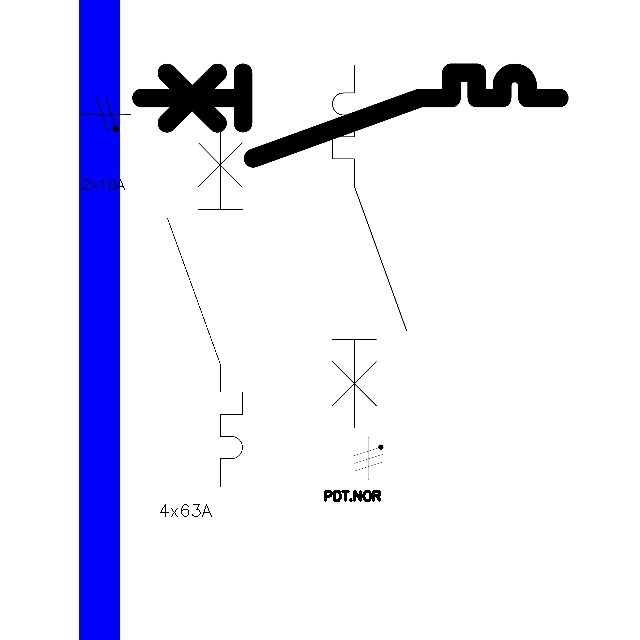interruptor_termomagnetico: (130, 62, 569, 169), (158, 111, 252, 496), (323, 56, 416, 436)
